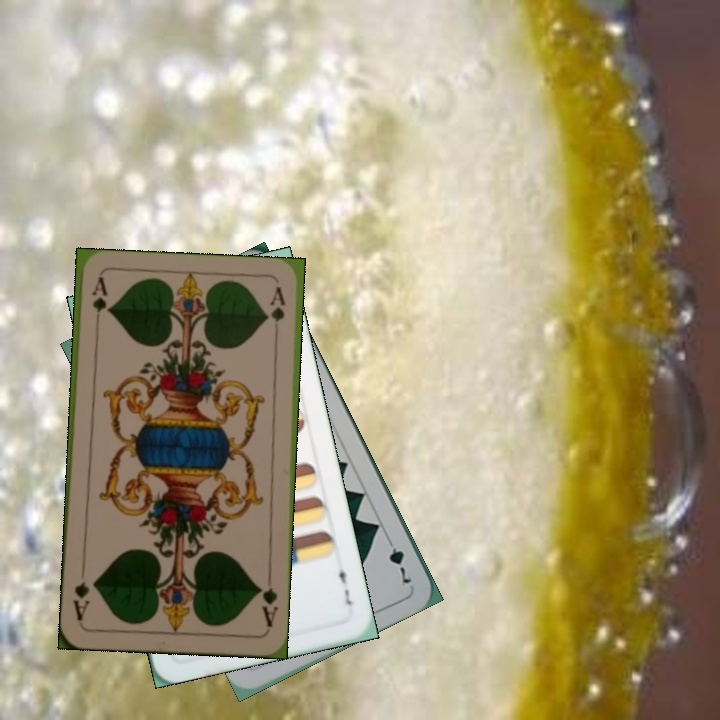E7: (334, 558, 355, 608)
G7: (382, 532, 414, 587)
GA: (254, 572, 280, 630), (87, 274, 109, 333)
